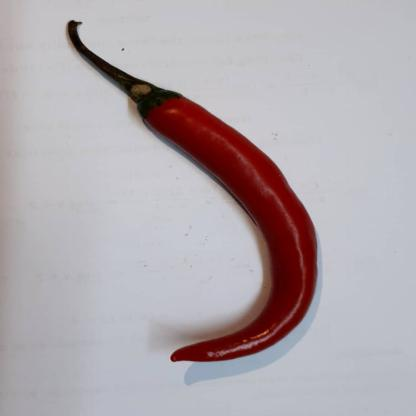chili: (64, 17, 318, 364)
